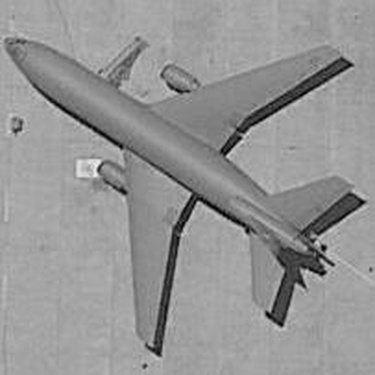airplane: (1, 4, 369, 373)
